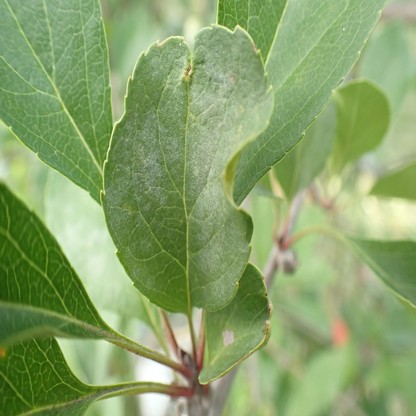frogeye: (222, 329, 234, 345), (0, 348, 6, 355)
powder: (187, 31, 248, 299), (105, 111, 167, 209), (109, 210, 155, 291), (145, 42, 191, 90), (161, 92, 186, 165)
